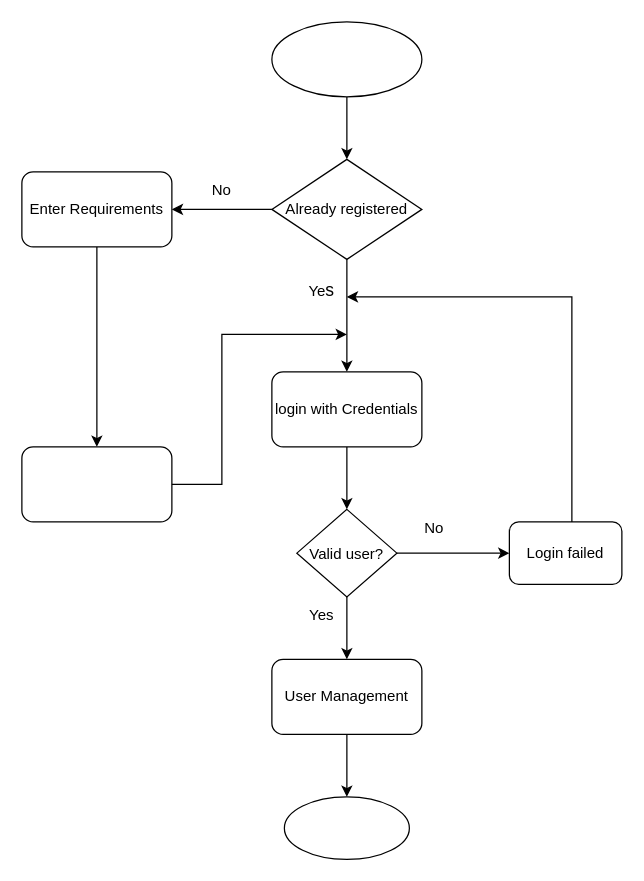
The diagram is 644 pixels wide and 881 high, and some of its shapes have lost their labels. The shapes that lost their labels are listed below. From the top down, each one's box as (x1, y1, x2, y2) in pixels, then its label:
(271, 21, 422, 97): Start
(21, 446, 172, 522): Registered Successfully
(283, 796, 409, 859): End
